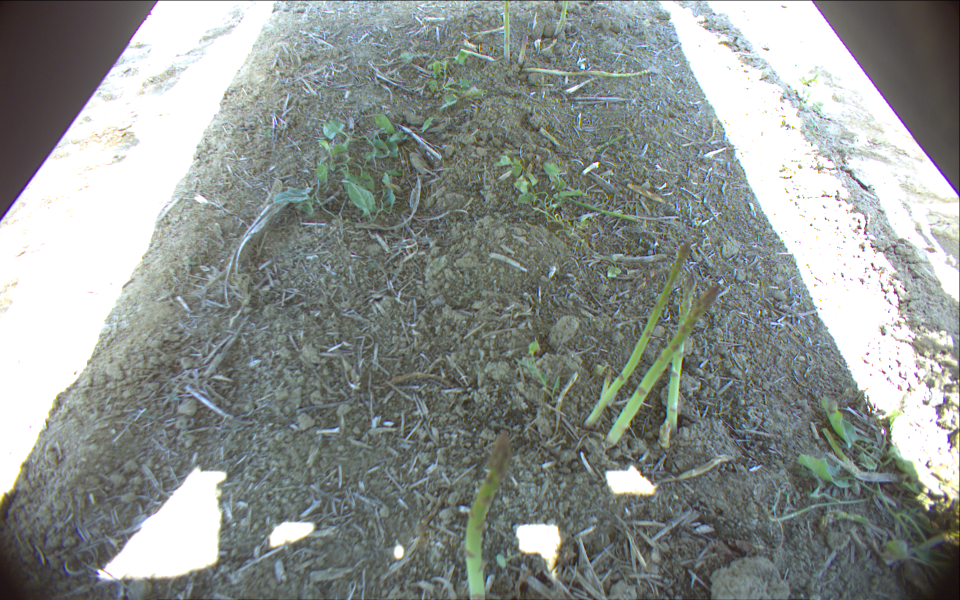aspa: (604, 282, 722, 447), (586, 242, 689, 431), (464, 430, 512, 600), (665, 271, 697, 437), (556, 197, 639, 223), (539, 129, 630, 152), (680, 119, 718, 148), (524, 68, 654, 76), (555, 1, 569, 39), (503, 1, 510, 61), (518, 29, 528, 64)
